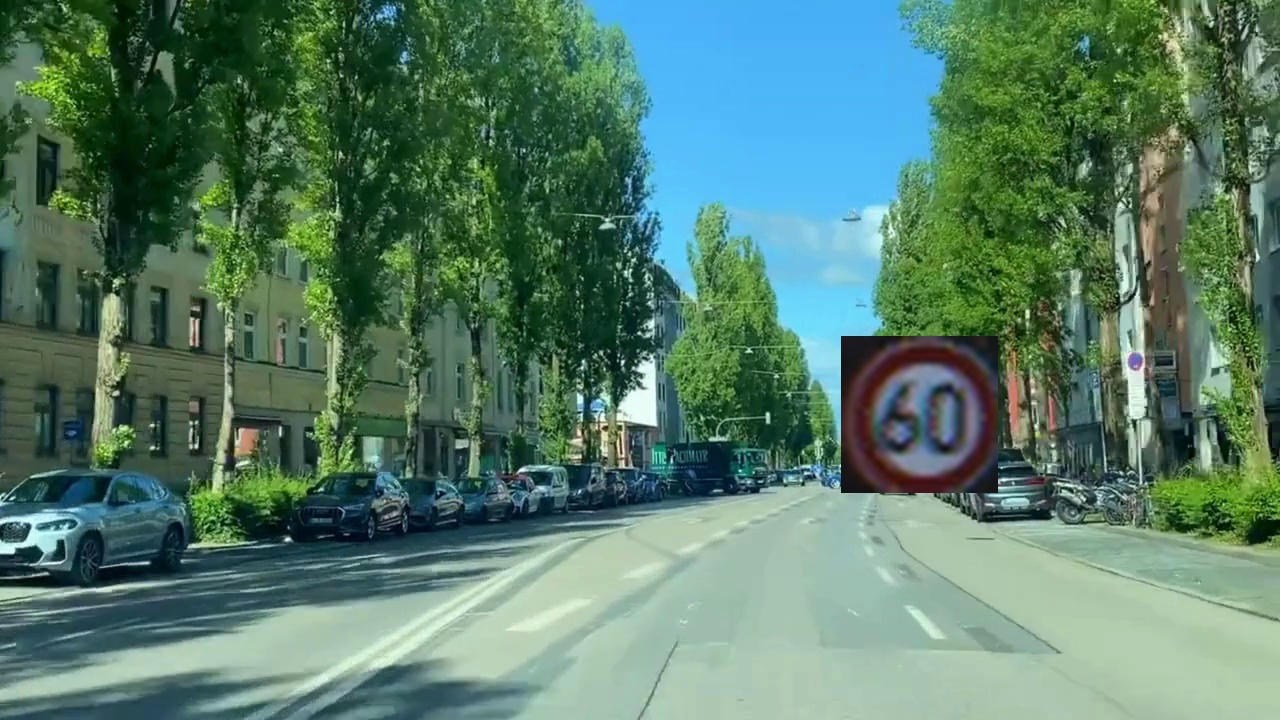Speed 60: (841, 336, 998, 493)
